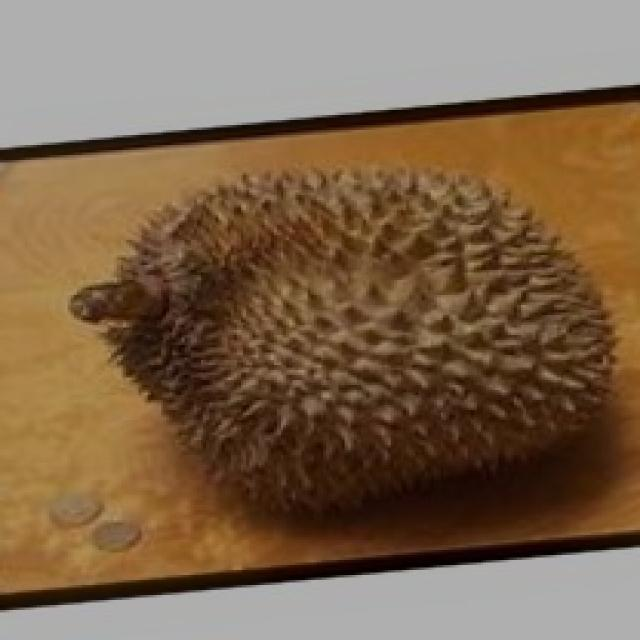fruit: (71, 162, 443, 552), (267, 152, 640, 532)
